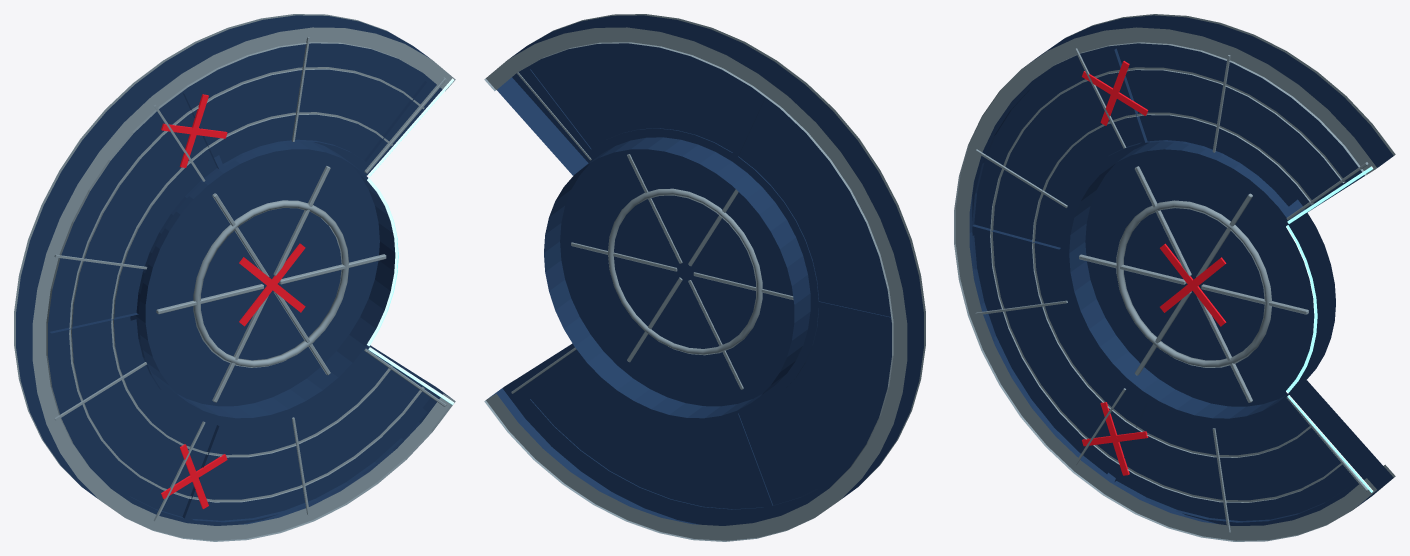
The model's file is foundry-panel-fun0-medium.glb.
3 renders of one model, left to right at view 1: azimuth 30°, elevation 25°; view 2: azimuth 150°, elevation 25°; view 3: azimuth 330°, elevation 25°, orthographic.
Visible parts, largest first — view 1: RENDER_PANEL_SHELL, RENDER_PANEL_FRAME, RENDER_PANEL_HAZARD, RENDER_PANEL_SIGNAL; view 2: RENDER_PANEL_SHELL, RENDER_PANEL_FRAME; view 3: RENDER_PANEL_SHELL, RENDER_PANEL_FRAME, RENDER_PANEL_HAZARD, RENDER_PANEL_SIGNAL.
Part boxes in pixels (left/top/right/bottom): RENDER_PANEL_SHELL: left=16, top=15, right=451, bottom=525; RENDER_PANEL_FRAME: left=14, top=14, right=455, bottom=541; RENDER_PANEL_HAZARD: left=161, top=94, right=305, bottom=508; RENDER_PANEL_SIGNAL: left=367, top=78, right=454, bottom=404; RENDER_PANEL_SHELL: left=488, top=15, right=923, bottom=525; RENDER_PANEL_FRAME: left=484, top=14, right=925, bottom=541; RENDER_PANEL_SHELL: left=969, top=15, right=1393, bottom=525; RENDER_PANEL_FRAME: left=954, top=14, right=1395, bottom=541; RENDER_PANEL_HAZARD: left=1082, top=61, right=1226, bottom=475; RENDER_PANEL_SIGNAL: left=1286, top=166, right=1373, bottom=492.
Size of what is drawn, in the model's own units: 36.16 by 40.97 by 3.09.
